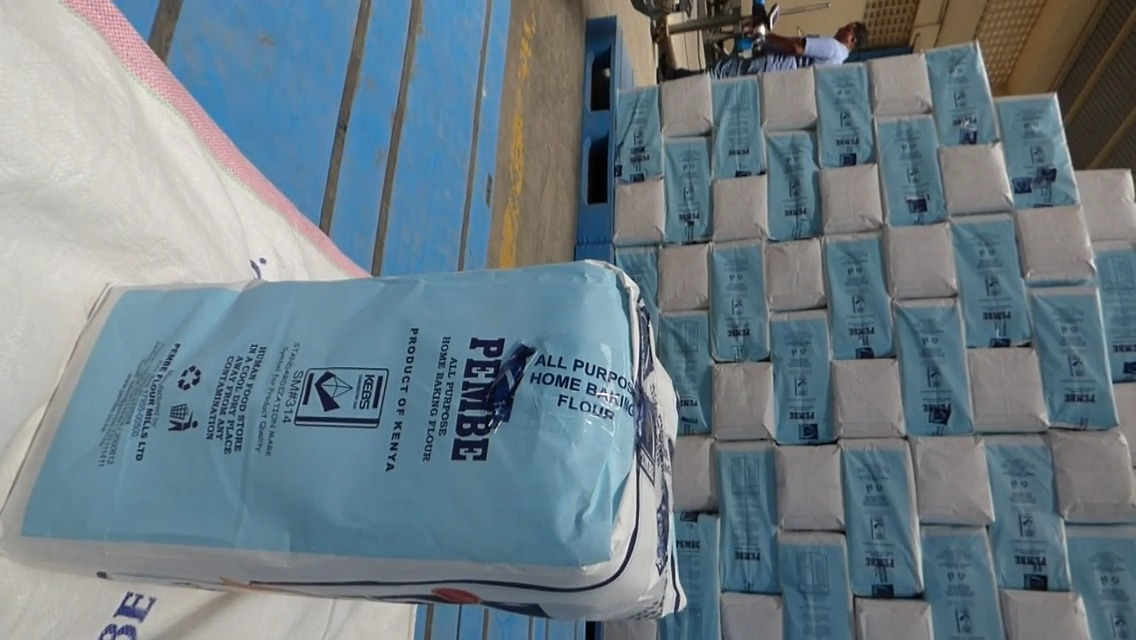wheat_flour_blue_label: (35, 258, 683, 623), (33, 632, 683, 640)
